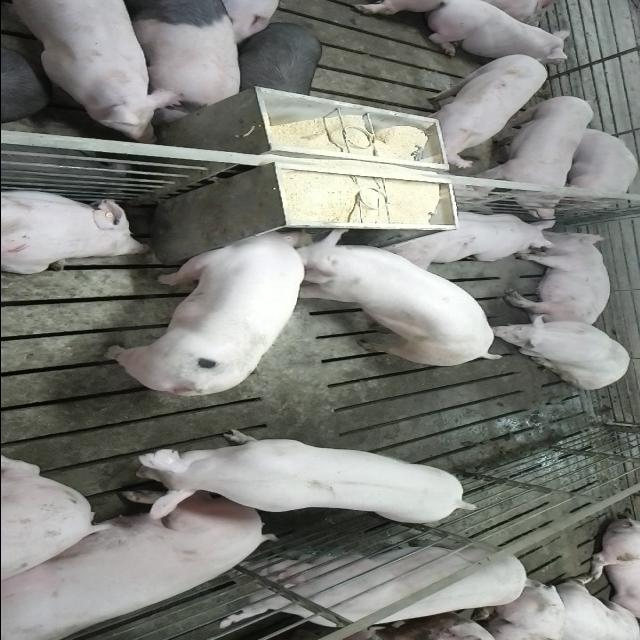Feeding: (97, 228, 301, 398), (282, 230, 504, 370)
Lateral_lying: (503, 231, 611, 326)
Sitting: (488, 312, 632, 390)
Standing: (114, 433, 472, 525), (218, 543, 538, 640), (0, 2, 188, 142), (404, 52, 548, 166), (466, 94, 594, 220), (120, 2, 244, 114), (230, 20, 324, 102)
Sternal_lying: (0, 186, 150, 272), (380, 207, 556, 267), (418, 2, 570, 61)
